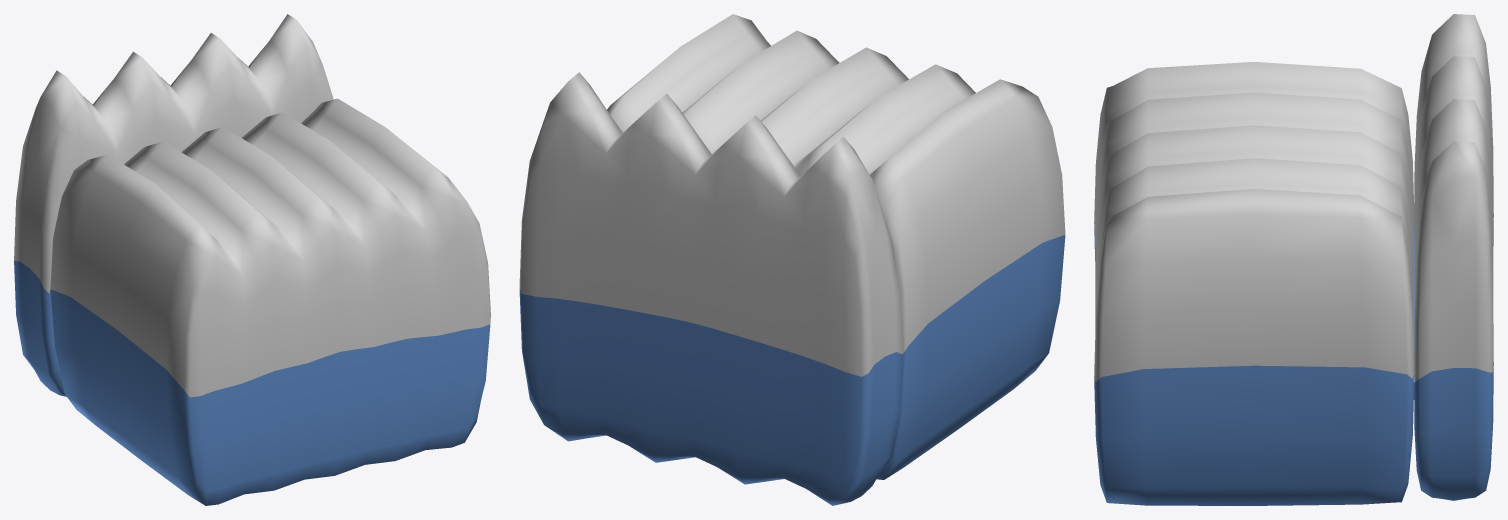
File: sh-scopia-air-mattress.glb
3 views of the same model, side by side, from view 1: azimuth 30°, elevation 25°; view 2: azimuth 150°, elevation 25°; view 3: azimuth 270°, elevation 25° (orthographic). The views are drawn at different scales.
Parts seen in each view (by area): view 1: Cube.001; view 2: Cube.001; view 3: Cube.001.
Part boxes in pixels (left/top/right/bottom): Cube.001: left=14, top=14, right=490, bottom=505; Cube.001: left=519, top=14, right=1065, bottom=505; Cube.001: left=1094, top=14, right=1493, bottom=505.
Bounding box in the file's own units: 1 × 1 × 1.
